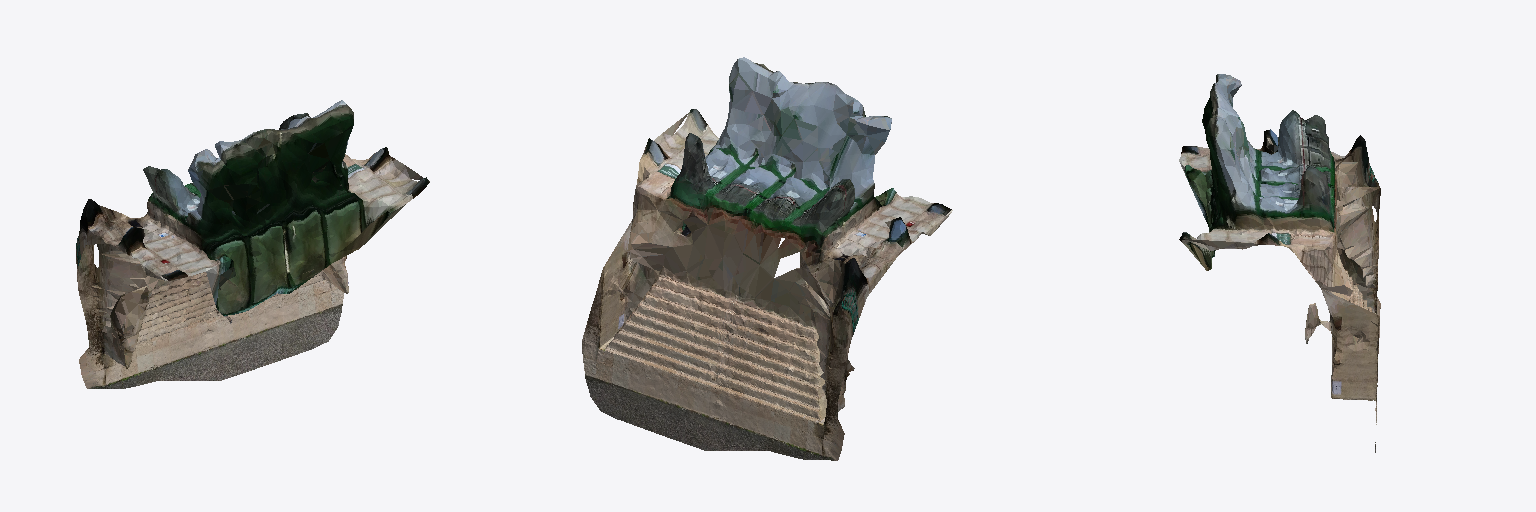
3 renders of one model, left to right at view 1: azimuth 30°, elevation 25°; view 2: azimuth 150°, elevation 25°; view 3: azimuth 270°, elevation 25°, orthographic.
Visible parts, largest first — view 1: Group_Global; view 2: Group_Global; view 3: Group_Global.
Part boxes in pixels (bbox=[...]): Group_Global: bbox=[76, 100, 429, 388]; Group_Global: bbox=[582, 57, 952, 460]; Group_Global: bbox=[1179, 74, 1380, 452].
Size of the model in its own units: 76.94 by 86.66 by 48.71.
Materials: 1 (1 with a texture image).